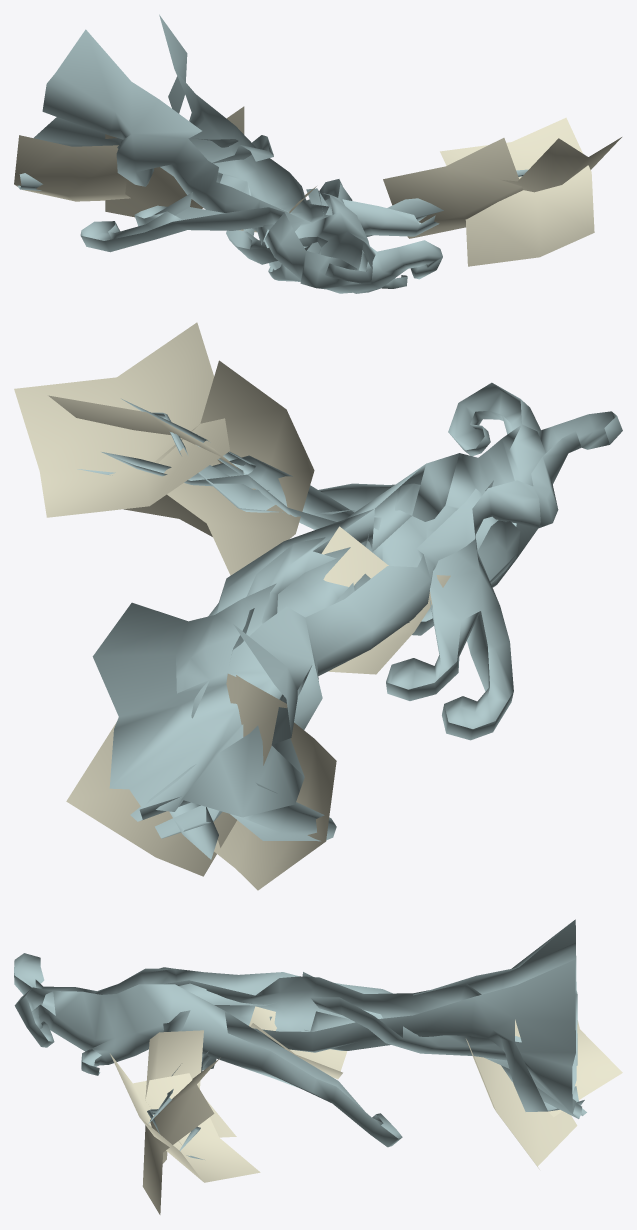
3 views of the same model, one above another, from view 1: azimuth 30°, elevation 25°; view 2: azimuth 150°, elevation 25°; view 3: azimuth 270°, elevation 25° (orthographic). The views are drawn at different scales.
Visible parts, largest first — view 1: Object11; view 2: Object11; view 3: Object11.
Part boxes in pixels (<box>): Object11: <box>14,14,621,293</box>; Object11: <box>14,322,622,890</box>; Object11: <box>14,919,622,1214</box>.
Bounding box in the file's own units: 25132 × 10832 × 28511.
